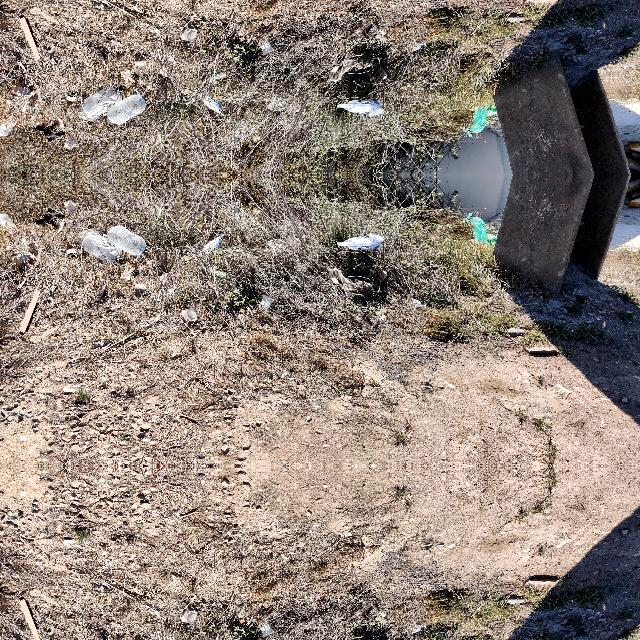Paper: (329, 230, 385, 254), (329, 94, 385, 118)
Plastic: (74, 223, 148, 261), (74, 87, 148, 125), (466, 100, 502, 144), (466, 205, 502, 248)
